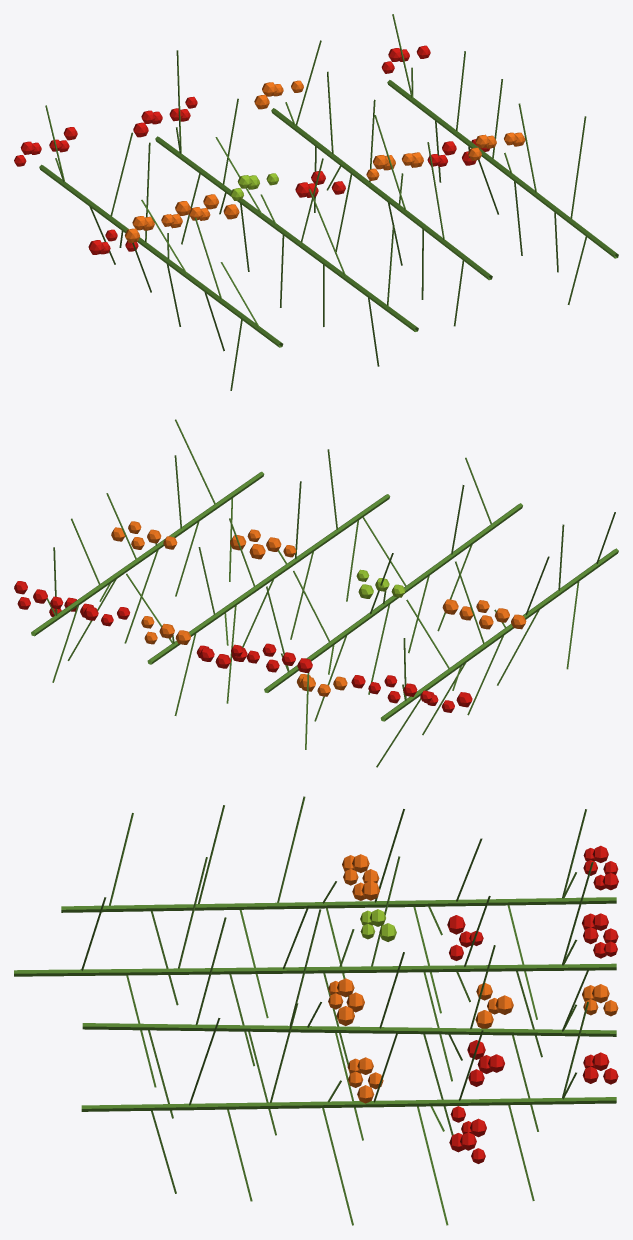
Rendered from r18c4_stems.obj.
3 renders of one model, top to bottom at view 1: azimuth 30°, elevation 25°; view 2: azimuth 150°, elevation 25°; view 3: azimuth 270°, elevation 25°, orthographic. The views are drawn at different scales.
Parts seen in each view (by area): view 1: r18c4_stems; view 2: r18c4_stems; view 3: r18c4_stems.
Part boxes in pixels (x1,y1,x2,y2): r18c4_stems: (14, 14, 618, 390); r18c4_stems: (14, 419, 618, 767); r18c4_stems: (14, 796, 618, 1225).
Bounding box in the file's own units: 2.03 × 0.8627 × 2.11.
